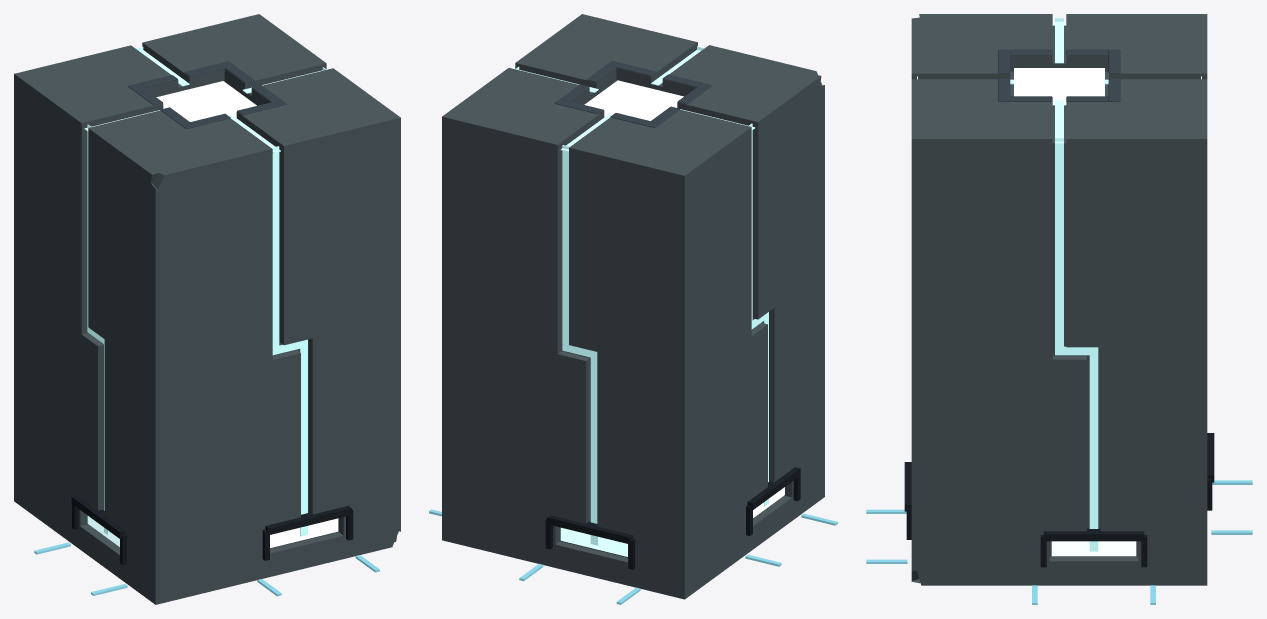
File: building_monolith_v08.glb
3 views of the same model, side by side, from view 1: azimuth 30°, elevation 25°; view 2: azimuth 150°, elevation 25°; view 3: azimuth 270°, elevation 25° (orthographic). The views are drawn at different scales.
Visible parts, largest first — view 1: monolith_body, conduit_s, energy_core, interface_s_hood, outlet_s, conduit_w, interface_w_hood; view 2: monolith_body, conduit_n, energy_core, interface_n_hood, outlet_n, conduit_w, interface_w_hood; view 3: monolith_body, conduit_e, energy_core, outlet_e, interface_e_hood.
Part boxes in pixels (x1,y1,x2,y2): monolith_body: [14, 14, 400, 604]; conduit_s: [229, 115, 307, 536]; energy_core: [156, 81, 256, 121]; interface_s_hood: [265, 506, 351, 535]; outlet_s: [270, 518, 338, 547]; conduit_w: [84, 110, 159, 535]; interface_w_hood: [71, 495, 125, 538]; monolith_body: [442, 14, 824, 599]; conduit_n: [560, 114, 611, 545]; energy_core: [584, 80, 683, 120]; interface_n_hood: [547, 515, 632, 544]; outlet_n: [560, 527, 627, 556]; conduit_w: [680, 109, 768, 506]; interface_w_hood: [747, 467, 800, 509]; monolith_body: [911, 14, 1207, 585]; conduit_e: [1055, 100, 1098, 551]; energy_core: [1014, 68, 1104, 105]; outlet_e: [1051, 541, 1136, 556]; interface_e_hood: [1043, 528, 1144, 541].
Bounding box in the file's own units: 3.92 × 5.01 × 3.92.
